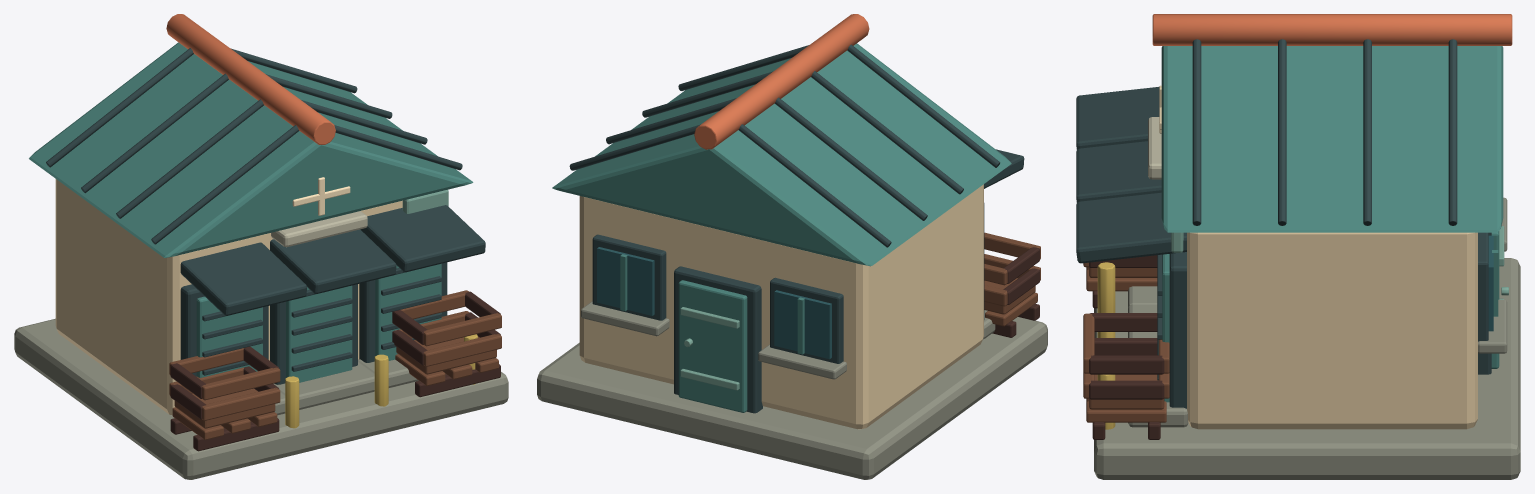
The model's file is warehouse.glb.
3 renders of one model, left to right at view 1: azimuth 30°, elevation 25°; view 2: azimuth 150°, elevation 25°; view 3: azimuth 270°, elevation 25°, orthographic. The views are drawn at different scales.
Parts seen in each view (by area): view 1: warehouse · copper, warehouse · metal, warehouse · stone, warehouse · plaster, warehouse · wood_light, warehouse · wood, warehouse · tile_light, warehouse · stone_light, warehouse · crop, warehouse · copper_light, warehouse · plaster_light; view 2: warehouse · copper, warehouse · plaster, warehouse · stone, warehouse · metal, warehouse · window, warehouse · tile_light, warehouse · wood_light, warehouse · wood, warehouse · copper_light; view 3: warehouse · copper, warehouse · plaster, warehouse · stone, warehouse · metal, warehouse · tile_light, warehouse · wood, warehouse · wood_light, warehouse · crop, warehouse · stone_light, warehouse · copper_light, warehouse · window.
Boxes of the visible parts, x1=… form: warehouse · copper: x1=29, y1=42, x2=473, y2=382; warehouse · metal: x1=46, y1=48, x2=485, y2=384; warehouse · stone: x1=14, y1=318, x2=508, y2=479; warehouse · plaster: x1=55, y1=179, x2=402, y2=415; warehouse · wood_light: x1=169, y1=290, x2=501, y2=439; warehouse · wood: x1=170, y1=291, x2=500, y2=451; warehouse · tile_light: x1=166, y1=14, x2=335, y2=144; warehouse · stone_light: x1=271, y1=211, x2=367, y2=247; warehouse · crop: x1=285, y1=334, x2=477, y2=428; warehouse · copper_light: x1=402, y1=189, x2=448, y2=213; warehouse · plaster_light: x1=292, y1=177, x2=350, y2=215; warehouse · copper: x1=552, y1=43, x2=1011, y2=412; warehouse · plaster: x1=579, y1=184, x2=983, y2=429; warehouse · stone: x1=537, y1=301, x2=1047, y2=479; warehouse · metal: x1=569, y1=44, x2=1024, y2=413; warehouse · window: x1=597, y1=247, x2=831, y2=359; warehouse · tile_light: x1=694, y1=14, x2=869, y2=149; warehouse · wood_light: x1=984, y1=232, x2=1040, y2=326; warehouse · wood: x1=992, y1=247, x2=1039, y2=337; warehouse · copper_light: x1=680, y1=307, x2=739, y2=390; warehouse · copper: x1=1161, y1=46, x2=1503, y2=402; warehouse · plaster: x1=1187, y1=232, x2=1477, y2=429; warehouse · stone: x1=1094, y1=197, x2=1520, y2=479; warehouse · metal: x1=1076, y1=39, x2=1491, y2=408; warehouse · tile_light: x1=1152, y1=14, x2=1512, y2=45; warehouse · wood: x1=1089, y1=255, x2=1164, y2=439; warehouse · wood_light: x1=1083, y1=262, x2=1169, y2=422; warehouse · crop: x1=1097, y1=262, x2=1115, y2=429; warehouse · stone_light: x1=1148, y1=117, x2=1161, y2=179; warehouse · copper_light: x1=1171, y1=226, x2=1508, y2=299; warehouse · window: x1=1488, y1=235, x2=1493, y2=331.
Size of the model in its own units: 0.91 by 0.817 by 0.8854.
